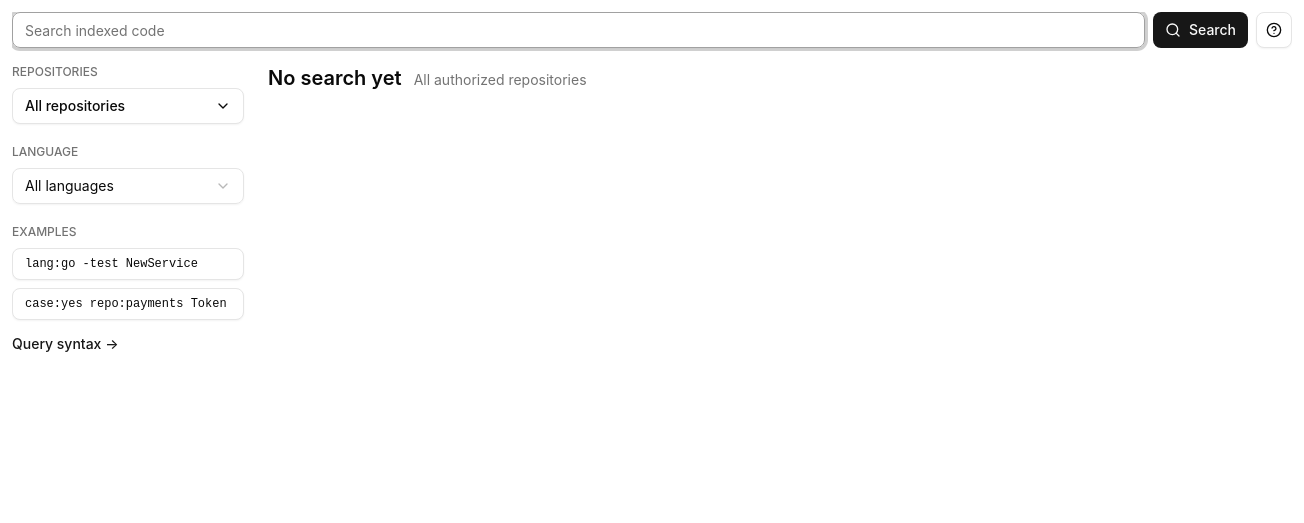
Test: SearchPage › pages the repository picker with the cursor and keeps selections
Click the button "All repositories" at (128, 106), box top-left (12, 88), bottom-right (244, 124)
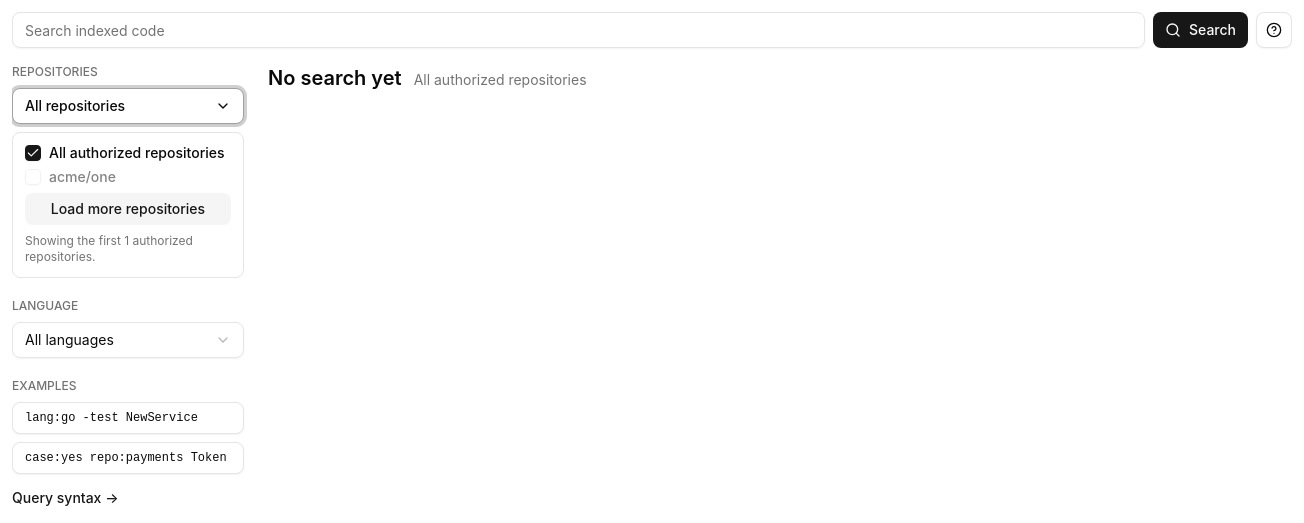
Expected: the text "Showing the first 1 authorized repositories." is shown, top-left (25, 233), bottom-right (193, 264)
Click the 1st checkbox named "All authorized repositories" at (33, 153), box top-left (25, 145), bottom-right (41, 161)
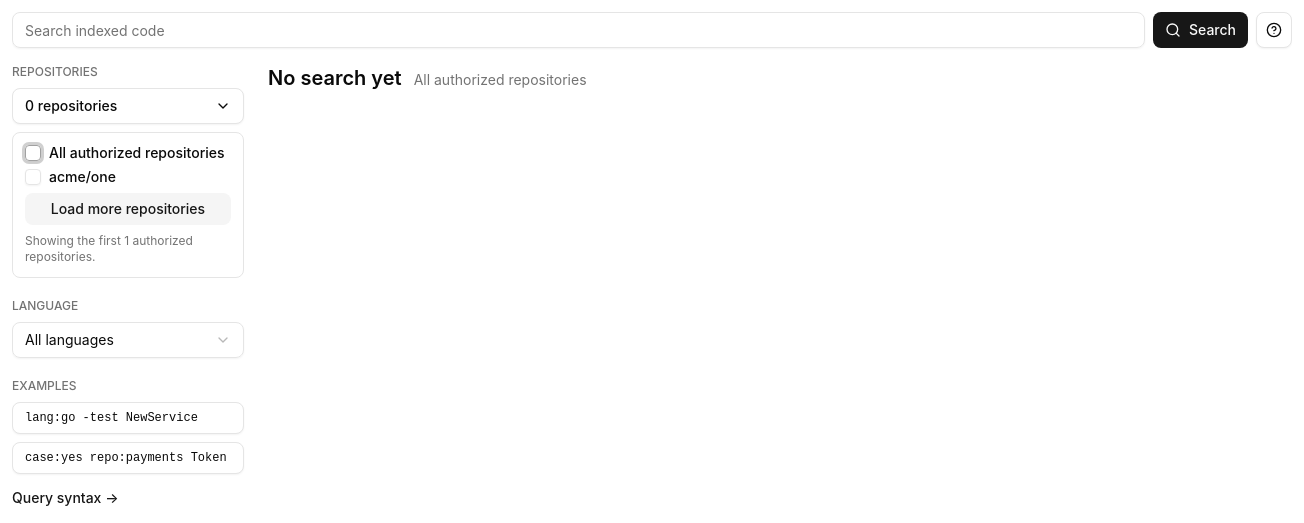
Click the checkbox named "acme/one" next to "acme/one" at (33, 177), box top-left (25, 169), bottom-right (41, 185)
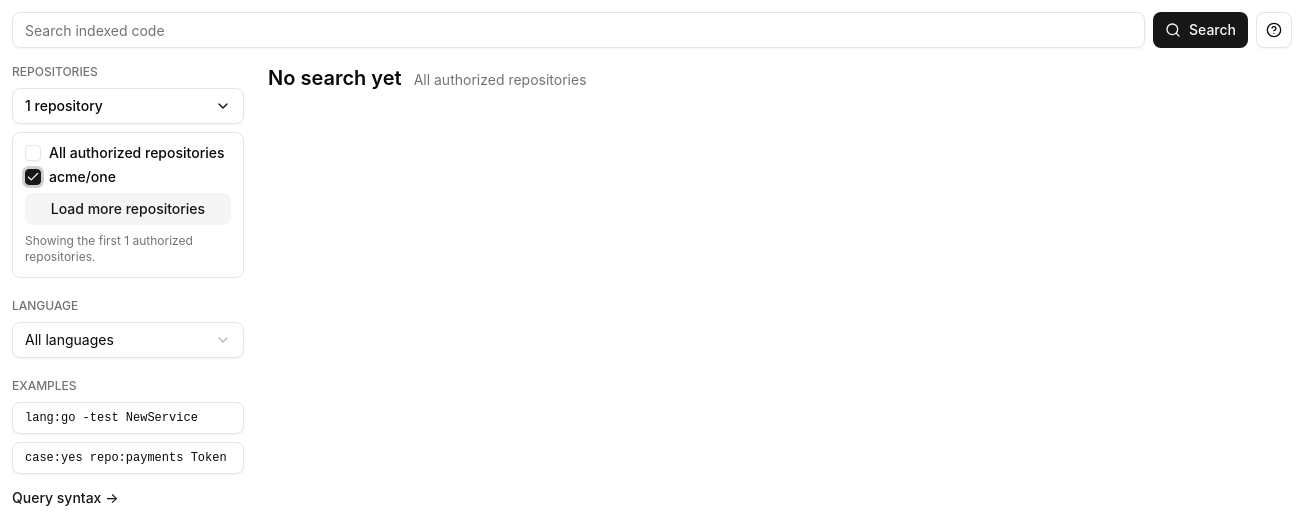
Click the button "Load more repositories" at (128, 209), box top-left (25, 193), bottom-right (231, 225)
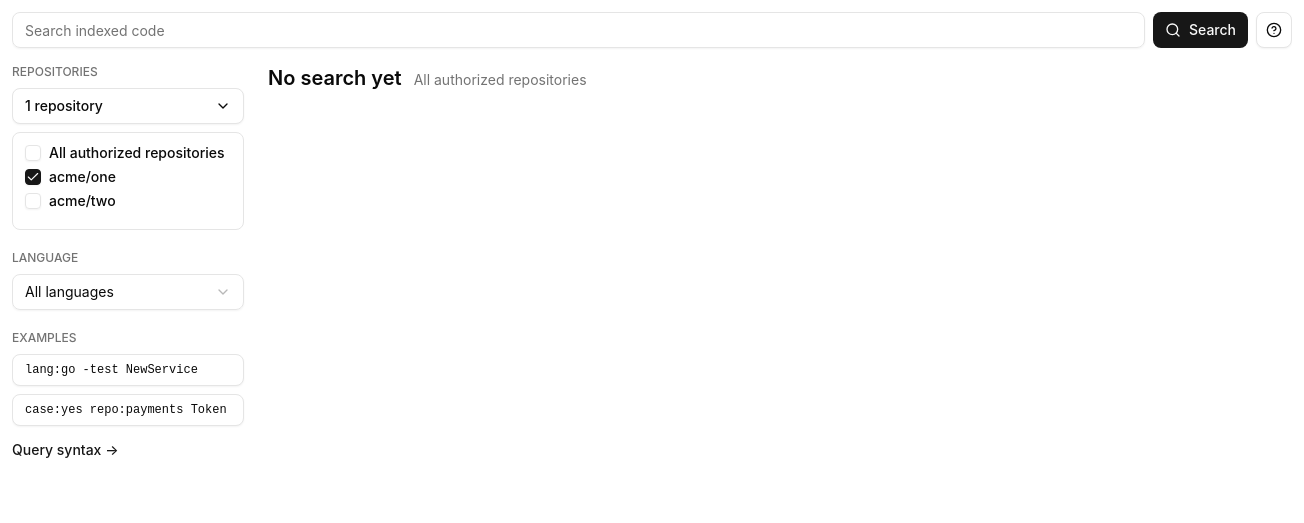
Expected: the checkbox named "acme/one" next to "acme/one" is checked, top-left (25, 169), bottom-right (41, 185)
Expected: the number of checkboxes named "acme/one" is 1, top-left (25, 169), bottom-right (41, 185)
Expected: the button "Load more repositories" is gone
